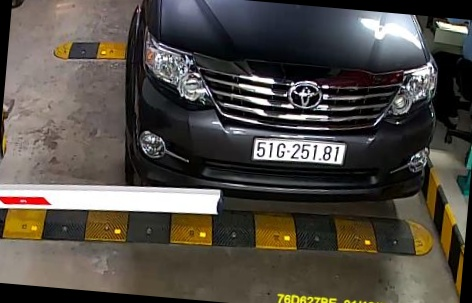plate: (247, 132, 357, 181)
